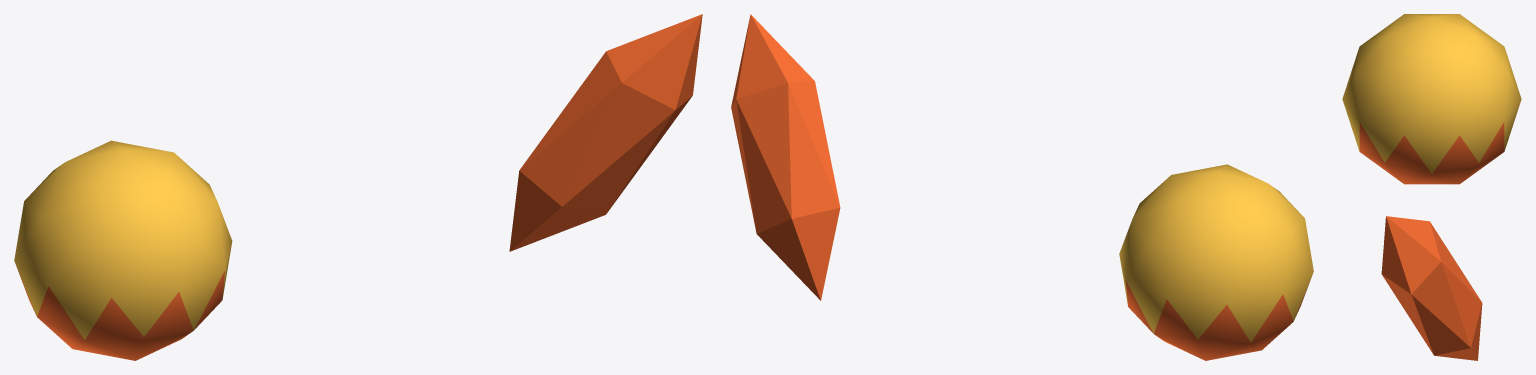
File: ember.fbx
3 views of the same model, side by side, from view 1: azimuth 30°, elevation 25°; view 2: azimuth 150°, elevation 25°; view 3: azimuth 270°, elevation 25° (orthographic). The views are drawn at different scales.
Parts seen in each view (by area): view 1: Ember, EmberFlake; view 2: Ember, EmberFlake; view 3: Ember, EmberFlake.
Part boxes in pixels (left/top/right/bottom): Ember: left=14, top=140, right=232, bottom=360; EmberFlake: left=509, top=14, right=702, bottom=251; Ember: left=1119, top=164, right=1313, bottom=360; EmberFlake: left=731, top=14, right=840, bottom=300; Ember: left=1342, top=14, right=1521, bottom=184; EmberFlake: left=1381, top=216, right=1482, bottom=360.
Bounding box in the file's own units: 0.0403 × 0.0146 × 0.012.
Materials: 1 (1 with a texture image).
